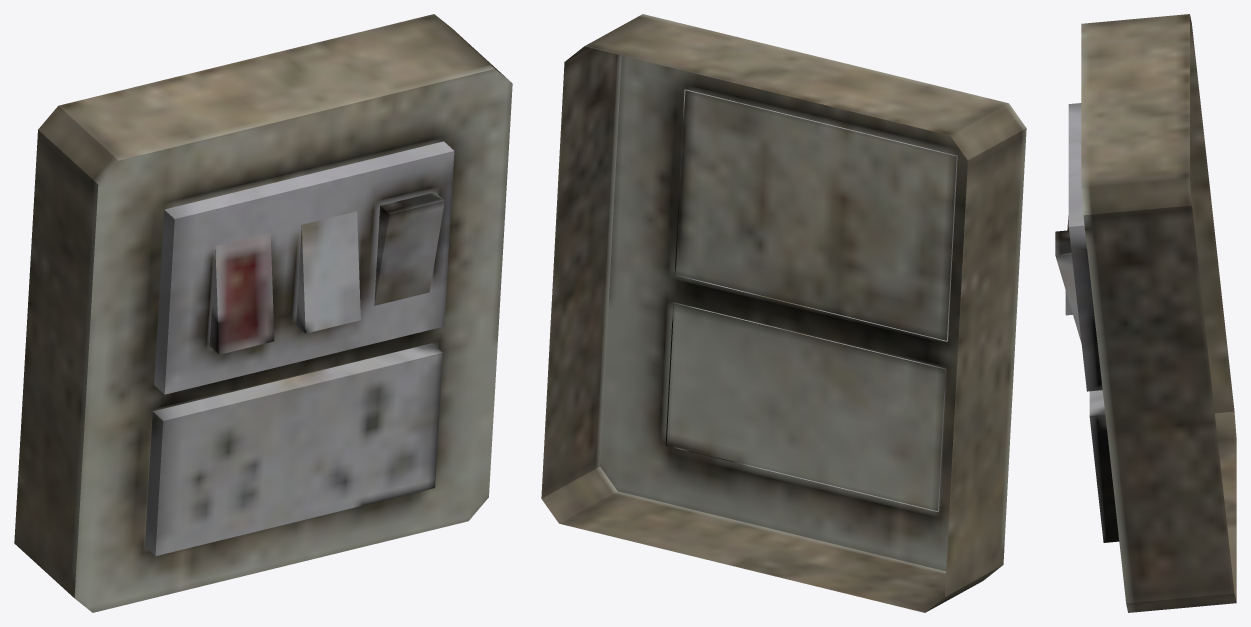
Rendered from Switchboard_02.FBX.
The picture shows the model from 3 angles, left to right: view 1: azimuth 30°, elevation 25°; view 2: azimuth 150°, elevation 25°; view 3: azimuth 270°, elevation 25°; orthographic projection. The views are drawn at different scales.
Visible parts, largest first — view 1: Switchboard_02; view 2: Switchboard_02; view 3: Switchboard_02.
Boxes of the visible parts, bbox=[...] form: Switchboard_02: bbox=[14, 14, 512, 612]; Switchboard_02: bbox=[541, 14, 1026, 612]; Switchboard_02: bbox=[1055, 14, 1236, 612].
Bounding box in the file's own units: 16.68 × 18.55 × 7.02.
